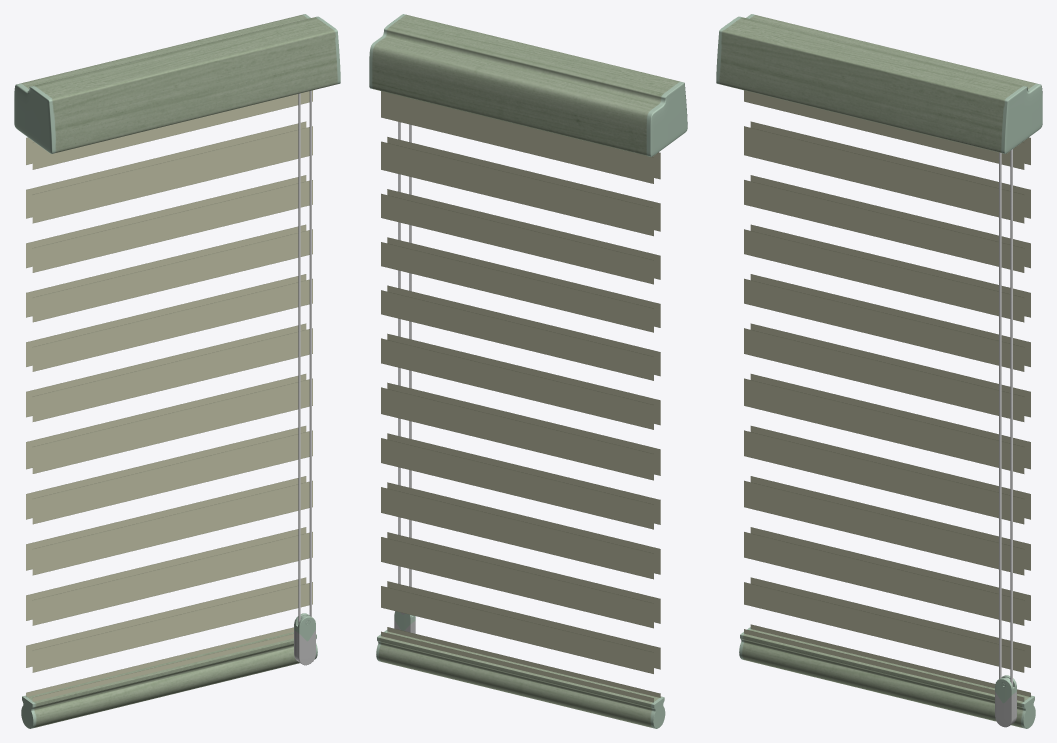
The model's file is curtain_02_02.001.fbx.
The picture shows the model from 3 angles, left to right: view 1: azimuth 30°, elevation 25°; view 2: azimuth 150°, elevation 25°; view 3: azimuth 330°, elevation 25°; orthographic projection. The views are drawn at different scales.
Parts seen in each view (by area): view 1: curtain_02_02.001; view 2: curtain_02_02.001; view 3: curtain_02_02.001.
Boxes of the visible parts, x1=… form: curtain_02_02.001: x1=14, y1=14, x2=340, y2=728; curtain_02_02.001: x1=369, y1=14, x2=687, y2=728; curtain_02_02.001: x1=716, y1=14, x2=1042, y2=728.
Size of the model in its own units: 51.11 by 109 by 11.73.
Materials: 1 (1 with a texture image).
